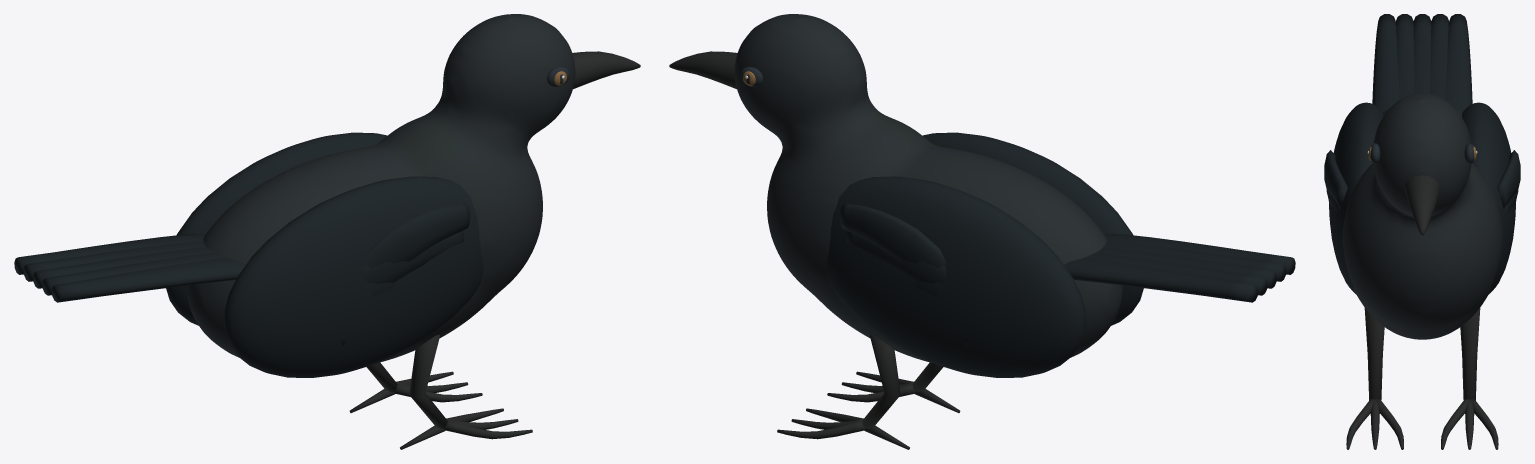
File: nature-crow.glb
3 renders of one model, left to right at view 1: azimuth 30°, elevation 25°; view 2: azimuth 150°, elevation 25°; view 3: azimuth 270°, elevation 25°, orthographic. The views are drawn at different scales.
Parts seen in each view (by area): view 1: Continuous anatomical skin, Convex folded wing wrapping flank, Convex folded wing wrapping flank.001, Rounded overlapping solid tail feather, Curved overlapping primary feather, Rounded overlapping solid tail feather.004, Articulated bird leg, Rounded overlapping solid tail feather.001, Rounded overlapping solid tail feather.003, Rounded overlapping solid tail feather.002, Tapered solid bird bill, Curved overlapping primary feather.001 (+1 smaller); view 2: Continuous anatomical skin, Convex folded wing wrapping flank.001, Convex folded wing wrapping flank, Rounded overlapping solid tail feather.004, Curved overlapping primary feather.005, Rounded overlapping solid tail feather, Articulated bird leg.001, Rounded overlapping solid tail feather.003, Rounded overlapping solid tail feather.001, Rounded overlapping solid tail feather.002, Tapered solid bird bill, Curved overlapping primary feather.006 (+1 smaller); view 3: Continuous anatomical skin, Convex folded wing wrapping flank.001, Convex folded wing wrapping flank, Rounded overlapping solid tail feather.004, Rounded overlapping solid tail feather, Rounded overlapping solid tail feather.003, Rounded overlapping solid tail feather.001, Tapered solid bird bill, Rounded overlapping solid tail feather.002, Articulated bird leg, Articulated bird leg.001, Curved overlapping primary feather (+7 smaller).
Boxes of the visible parts, x1,y1,x2,y2 form: Continuous anatomical skin: (187, 14, 575, 362); Convex folded wing wrapping flank: (224, 176, 483, 377); Convex folded wing wrapping flank.001: (166, 132, 387, 325); Rounded overlapping solid tail feather: (51, 257, 245, 302); Curved overlapping primary feather: (364, 203, 470, 268); Rounded overlapping solid tail feather.004: (14, 234, 204, 274); Articulated bird leg: (409, 334, 447, 428); Rounded overlapping solid tail feather.001: (42, 252, 225, 295); Rounded overlapping solid tail feather.003: (23, 241, 205, 281); Rounded overlapping solid tail feather.002: (33, 247, 213, 288); Tapered solid bird bill: (572, 51, 640, 89); Curved overlapping primary feather.001: (363, 231, 463, 283); Continuous anatomical skin: (734, 14, 1122, 362); Convex folded wing wrapping flank.001: (826, 176, 1085, 377); Convex folded wing wrapping flank: (922, 132, 1143, 325); Rounded overlapping solid tail feather.004: (1064, 257, 1258, 302); Curved overlapping primary feather.005: (839, 203, 945, 268); Rounded overlapping solid tail feather: (1104, 234, 1295, 274); Articulated bird leg.001: (862, 334, 900, 428); Rounded overlapping solid tail feather.003: (1084, 252, 1267, 295); Rounded overlapping solid tail feather.001: (1104, 241, 1286, 281); Rounded overlapping solid tail feather.002: (1096, 247, 1276, 288); Tapered solid bird bill: (669, 51, 737, 89); Curved overlapping primary feather.006: (846, 231, 946, 283); Continuous anatomical skin: (1342, 93, 1502, 339); Convex folded wing wrapping flank.001: (1462, 102, 1515, 294); Convex folded wing wrapping flank: (1329, 102, 1382, 293); Rounded overlapping solid tail feather.004: (1445, 14, 1472, 112); Rounded overlapping solid tail feather: (1372, 14, 1399, 112); Rounded overlapping solid tail feather.003: (1430, 14, 1448, 99); Rounded overlapping solid tail feather.001: (1396, 14, 1414, 99); Tapered solid bird bill: (1404, 175, 1440, 235); Rounded overlapping solid tail feather.002: (1413, 14, 1431, 93); Articulated bird leg: (1364, 308, 1384, 400); Articulated bird leg.001: (1460, 308, 1480, 400); Curved overlapping primary feather: (1324, 150, 1347, 208).
Bounding box in the file's own units: 0.7111 × 0.43 × 0.2134.
6 materials, 6 textured.
